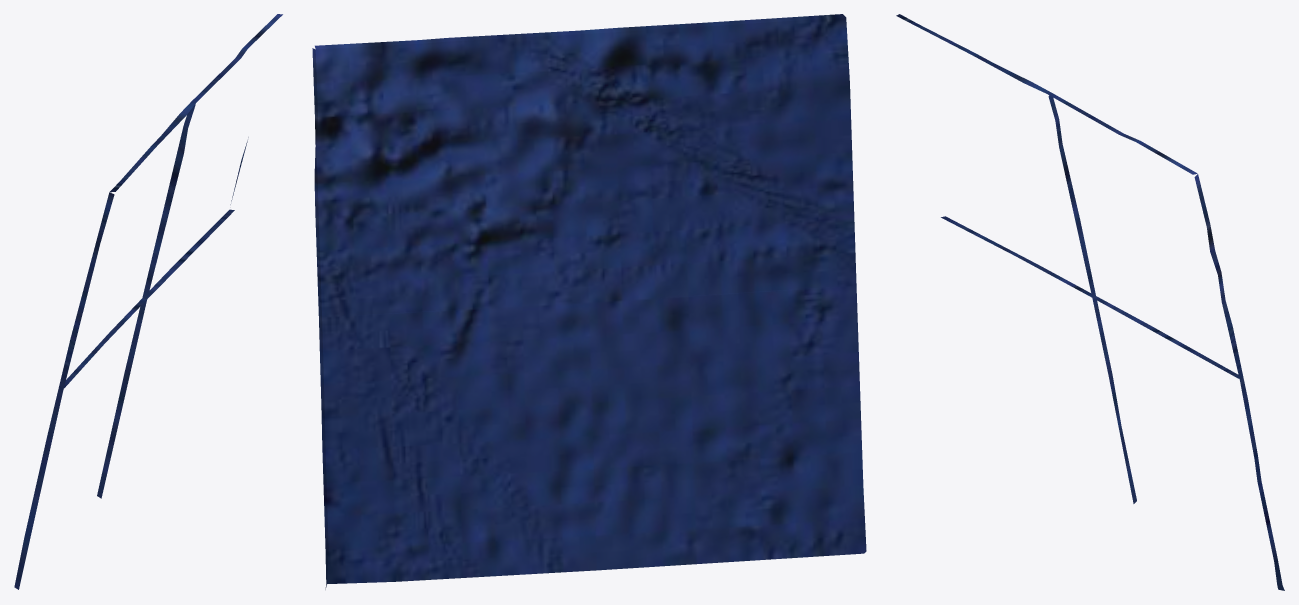
3 views of the same model, side by side, from view 1: azimuth 30°, elevation 25°; view 2: azimuth 150°, elevation 25°; view 3: azimuth 270°, elevation 25° (orthographic). The views are drawn at different scales.
Bounding box in the file's own units: 286148 × 309632 × 246650.
1 material, 1 textured.
